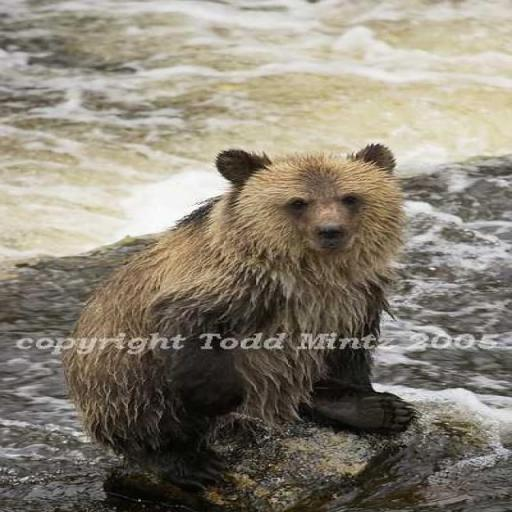Bear: (58, 142, 420, 494)
